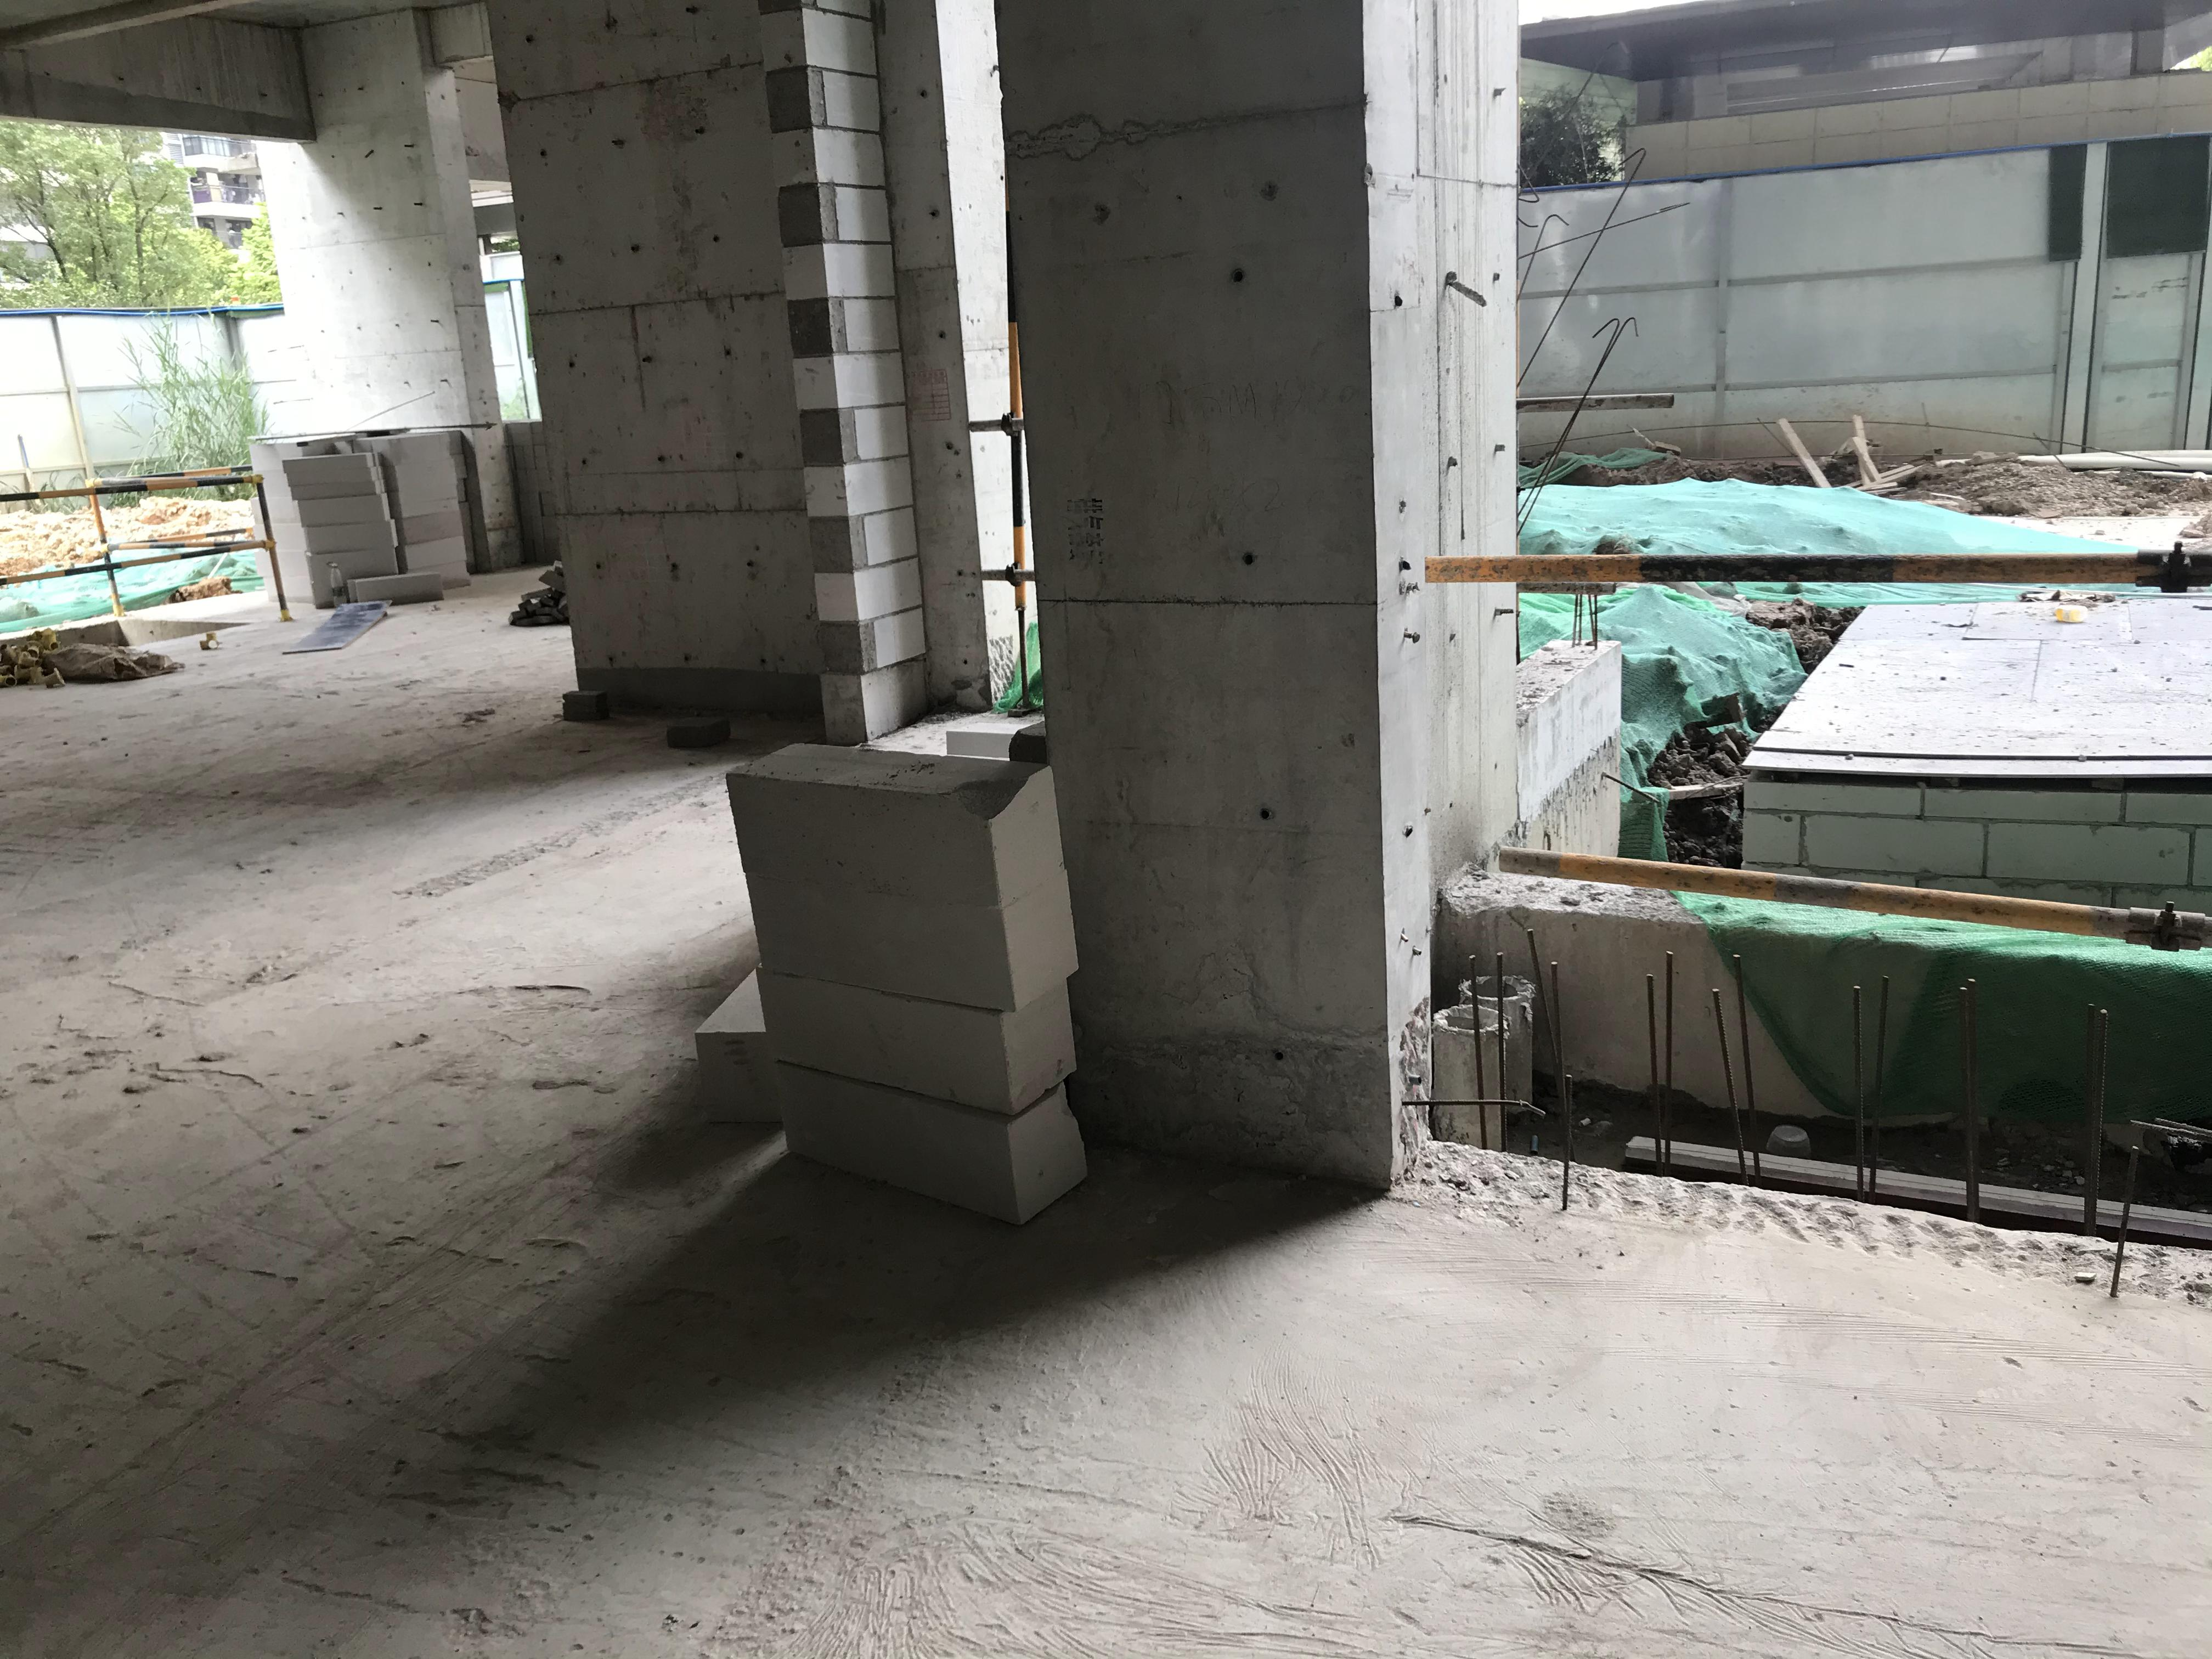brick: (730, 737, 1090, 1225), (251, 427, 470, 606)
